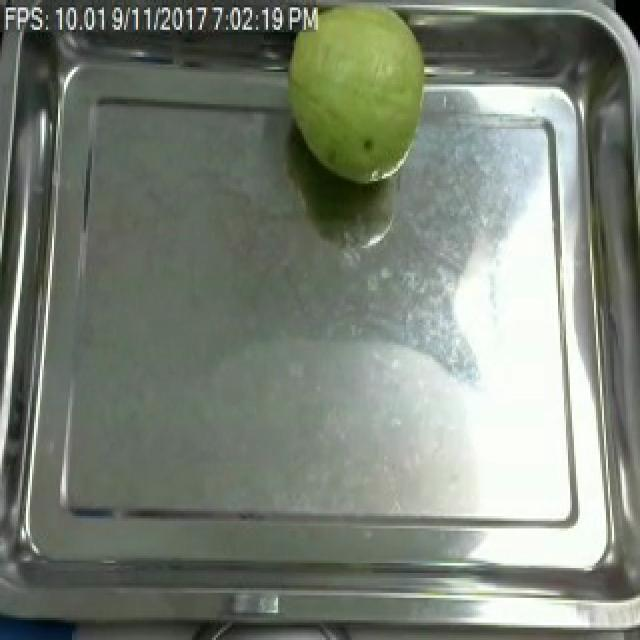Fruit: (276, 0, 436, 191)
